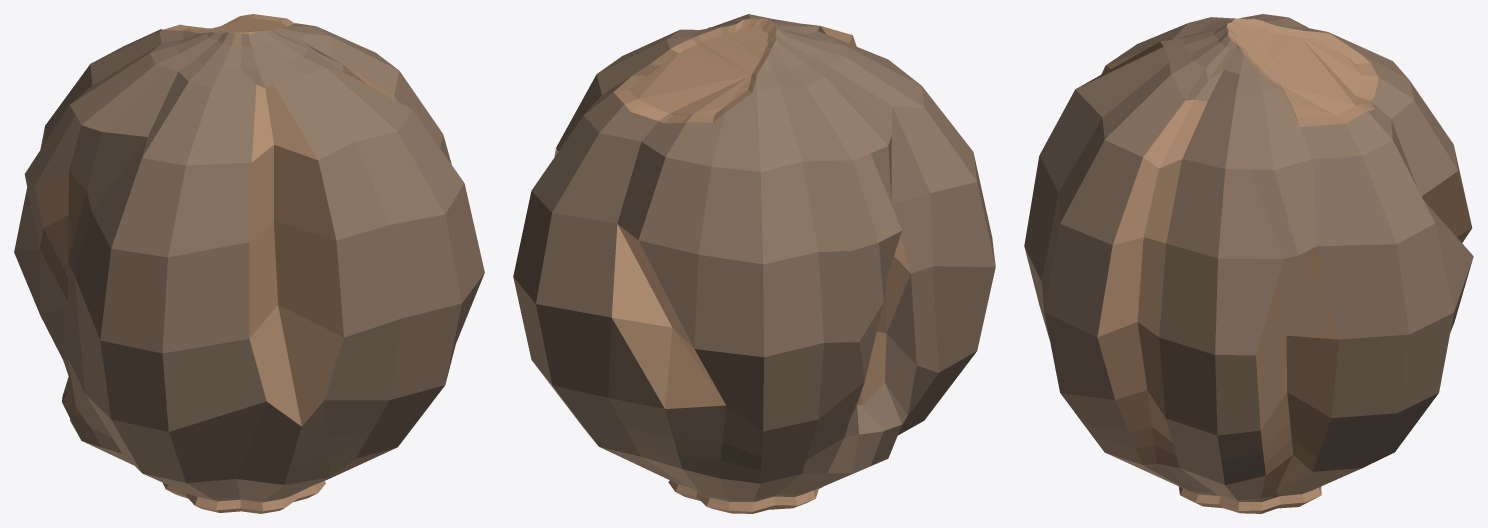
Rendered from OnionHurt2.fbx.
The picture shows the model from 3 angles, left to right: view 1: azimuth 30°, elevation 25°; view 2: azimuth 150°, elevation 25°; view 3: azimuth 270°, elevation 25°; orthographic projection.
Visible parts, largest first — view 1: Sphere.002; view 2: Sphere.002; view 3: Sphere.002.
Boxes of the visible parts, bbox=[...] form: Sphere.002: bbox=[14, 14, 484, 513]; Sphere.002: bbox=[513, 14, 995, 513]; Sphere.002: bbox=[1024, 14, 1473, 513].
Bounding box in the file's own units: 227 × 251 × 223.
